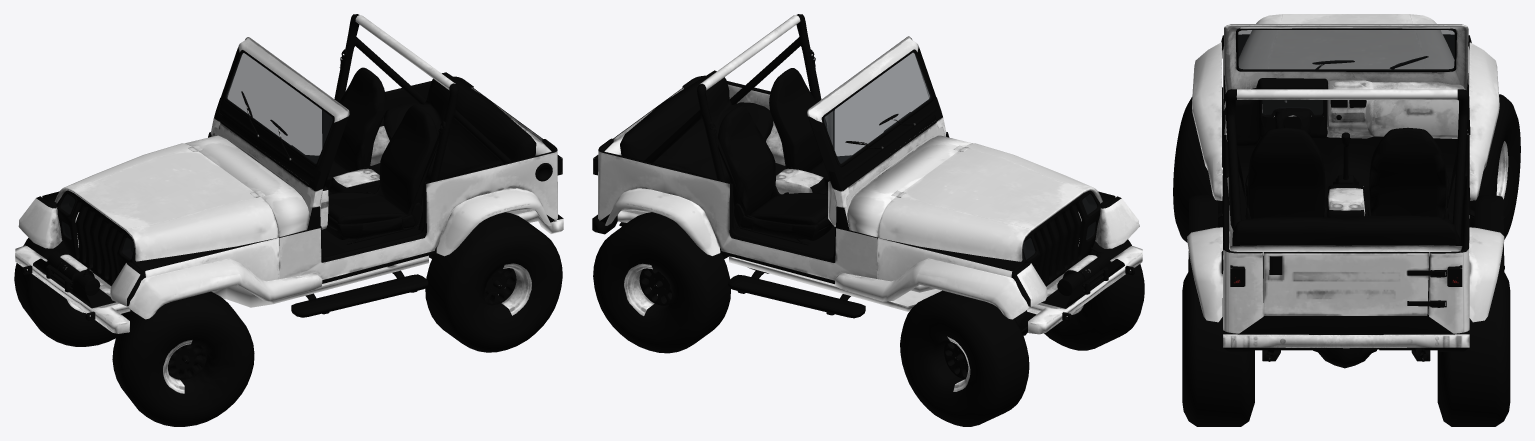
Rendered from car_jeep.glb.
3 views of the same model, side by side, from view 1: azimuth 30°, elevation 25°; view 2: azimuth 150°, elevation 25°; view 3: azimuth 270°, elevation 25° (orthographic). The views are drawn at different scales.
Visible parts, largest first — view 1: car_jeep; view 2: car_jeep; view 3: car_jeep.
Part boxes in pixels (box(x1,y1,x2,y2)): car_jeep: box(14, 14, 563, 426); car_jeep: box(592, 14, 1144, 426); car_jeep: box(1173, 14, 1520, 426).
Size of the model in its own units: 4.1 by 2.27 by 2.28.
Materials: 2 (1 with a texture image).
